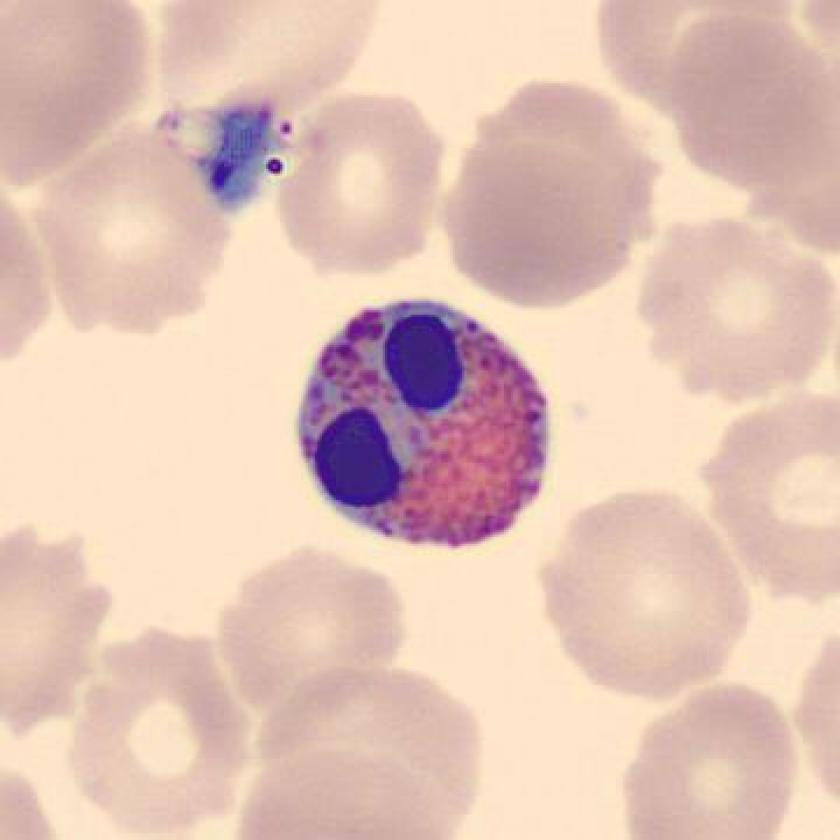eosinophil: (279, 286, 566, 563)
